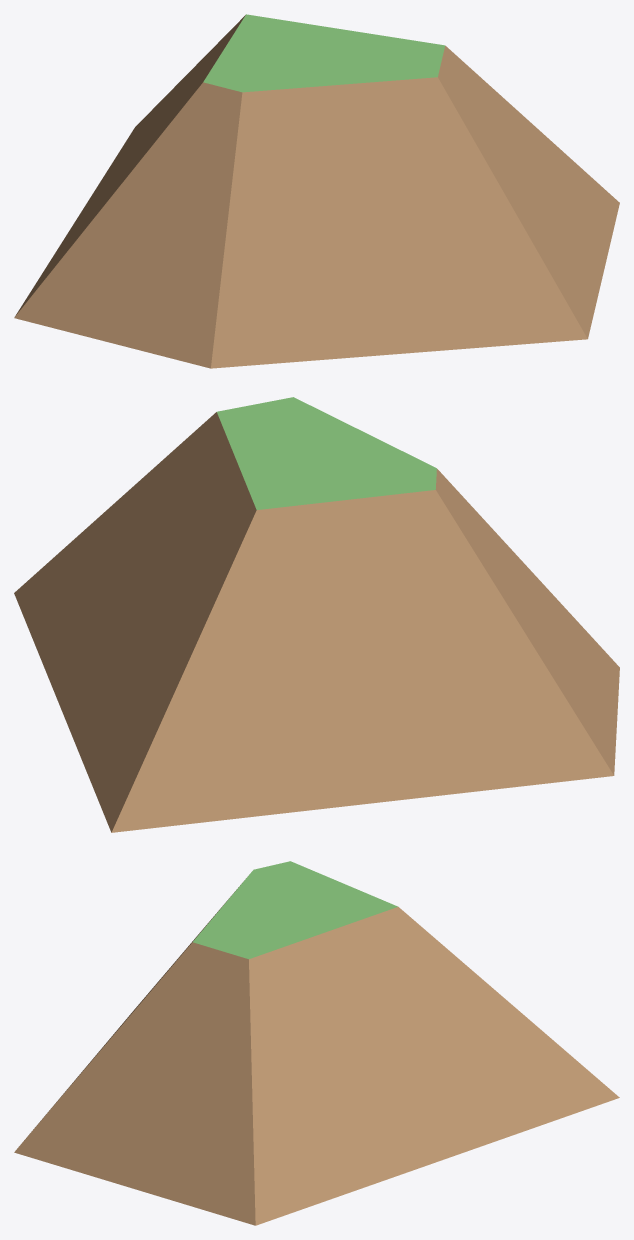
File: nature_rock_small_b.glb
The picture shows the model from 3 angles, top to bottom: view 1: azimuth 30°, elevation 25°; view 2: azimuth 150°, elevation 25°; view 3: azimuth 270°, elevation 25°; orthographic projection. The views are drawn at different scales.
Parts seen in each view (by area): view 1: rock_smallC; view 2: rock_smallC; view 3: rock_smallC.
Part boxes in pixels (box(x1,y1,x2,y2)): rock_smallC: box(14, 14, 619, 368); rock_smallC: box(14, 397, 619, 832); rock_smallC: box(14, 861, 619, 1225).
Bounding box in the file's own units: 0.7216 × 0.2453 × 0.7216.
